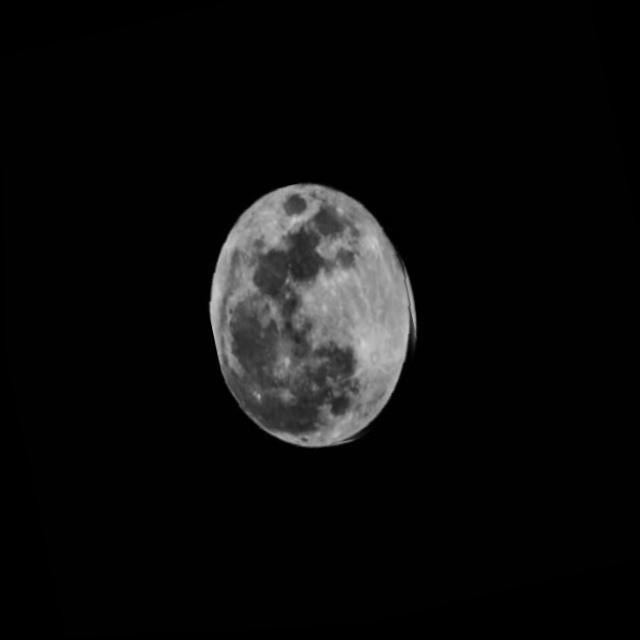moon: (186, 164, 440, 472)
